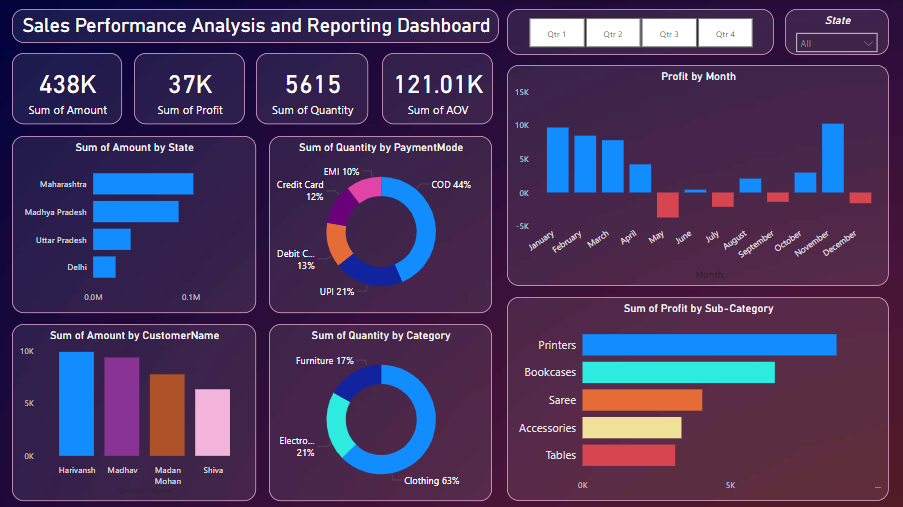

What the dashboard file says about the page in this screenshot:
{"tool":"powerbi","page":{"name":"Page 1","canvas":[1280,720],"ordinal":0},"visuals":[{"type":"textbox","title":"Sales Performance Analysis and Reporting Dashboard","box":[18.4,12.8,690.2,48.2],"z":0},{"type":"columnChart","title":"Profit by Month","fields":{"Category":["Orders.Order Date.Variation.Date Hierarchy.Month"],"Y":["Details.Profit"]},"box":[720,92.1,541.4,313.2],"z":1000},{"type":"barChart","fields":{"Category":["Details.Sub-Category"],"Y":["Details.Profit"]},"box":[720,420.9,541.4,289.1],"z":2000},{"type":"pieChart","fields":{"Category":["Details.Category"],"Y":["Details.Quantity"]},"box":[382.7,459.2,316.1,250.9],"z":3000},{"type":"donutChart","fields":{"Y":["Details.Quantity"],"Category":["Details.PaymentMode"]},"box":[382.7,192.8,316.1,250.9],"z":4000},{"type":"card","fields":{"Values":["Details.Amount"]},"box":[18.4,75.1,155.9,100.6],"z":5000},{"type":"card","fields":{"Values":["Details.Profit"]},"box":[191.3,75.1,157.3,100.6],"z":6000},{"type":"card","fields":{"Values":["Details.Quantity"]},"box":[364.3,75.1,158.7,100.6],"z":7000},{"type":"card","fields":{"Values":["Details.AOV"]},"box":[542.8,75.1,157.3,100.6],"z":8000},{"type":"barChart","fields":{"Category":["Orders.State"],"Y":["Details.Amount"]},"box":[18.4,192.8,345.8,250.9],"z":9000},{"type":"columnChart","fields":{"Category":["Orders.CustomerName"],"Y":["Details.Amount"]},"box":[18.4,459.2,345.8,250.9],"z":10000},{"type":"slicer","fields":{"Values":["Orders.Order Date.Variation.Date Hierarchy.Quarter"]},"box":[720,12.8,378.4,65.2],"z":11000},{"type":"slicer","title":"State","fields":{"Values":["Orders.State"]},"box":[1114,12.8,147.4,65.2],"z":12000}]}

Visuals, with their boxes in screenshot pixels (x1, y1, x2, y2), scaled from the page's 1280x720 canvas onto the 903x507 screenshot:
"Sales Performance Analysis and Reporting Dashboard" textbox: bbox=(13, 9, 500, 43)
"Profit by Month" columnChart: bbox=(508, 65, 890, 285)
barChart - Details.Sub-Category x Details.Profit: bbox=(508, 296, 890, 500)
pieChart - Details.Category x Details.Quantity: bbox=(270, 323, 493, 500)
donutChart - Details.Quantity x Details.PaymentMode: bbox=(270, 136, 493, 312)
card - Details.Amount: bbox=(13, 53, 123, 124)
card - Details.Profit: bbox=(135, 53, 246, 124)
card - Details.Quantity: bbox=(257, 53, 369, 124)
card - Details.AOV: bbox=(383, 53, 494, 124)
barChart - Orders.State x Details.Amount: bbox=(13, 136, 257, 312)
columnChart - Orders.CustomerName x Details.Amount: bbox=(13, 323, 257, 500)
slicer - Orders.Order Date.Variation.Date Hierarchy.Quarter: bbox=(508, 9, 775, 55)
"State" slicer: bbox=(786, 9, 890, 55)
